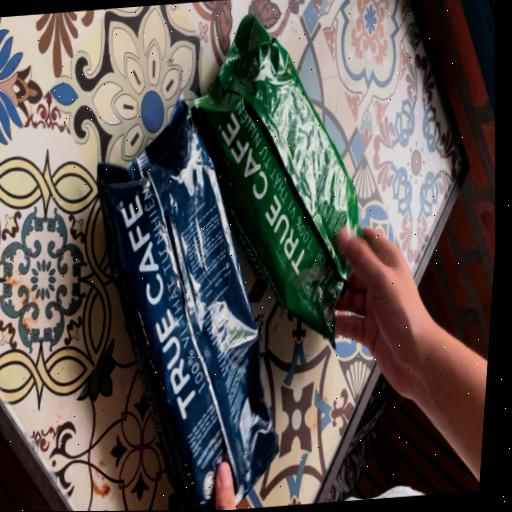cafe_hat: (98, 99, 278, 510)
cafe_xay: (193, 15, 358, 346)
